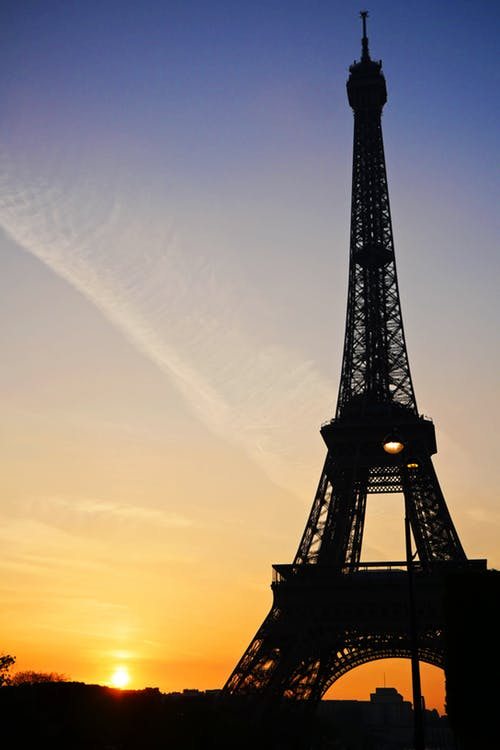eiffel tower: (230, 7, 493, 716)
